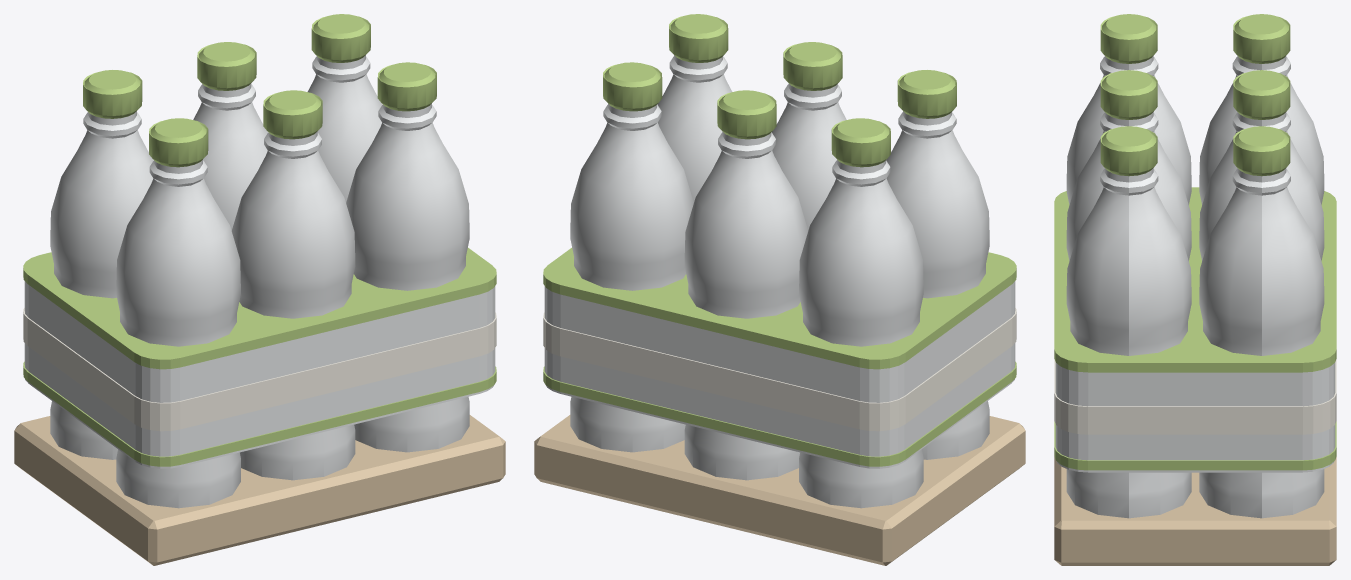
The model's file is fresh-produce-and-groceries-water-multipack-48e9b381__24447.glb.
3 renders of one model, left to right at view 1: azimuth 30°, elevation 25°; view 2: azimuth 150°, elevation 25°; view 3: azimuth 270°, elevation 25°, orthographic.
Parts seen in each view (by area): view 1: water-multipack; view 2: water-multipack; view 3: water-multipack.
Part boxes in pixels (<box>): water-multipack: <box>14,14,505,565</box>; water-multipack: <box>534,14,1025,565</box>; water-multipack: <box>1054,14,1336,565</box>.
Size of the model in its own units: 0.2159 by 0.23 by 0.1469.
